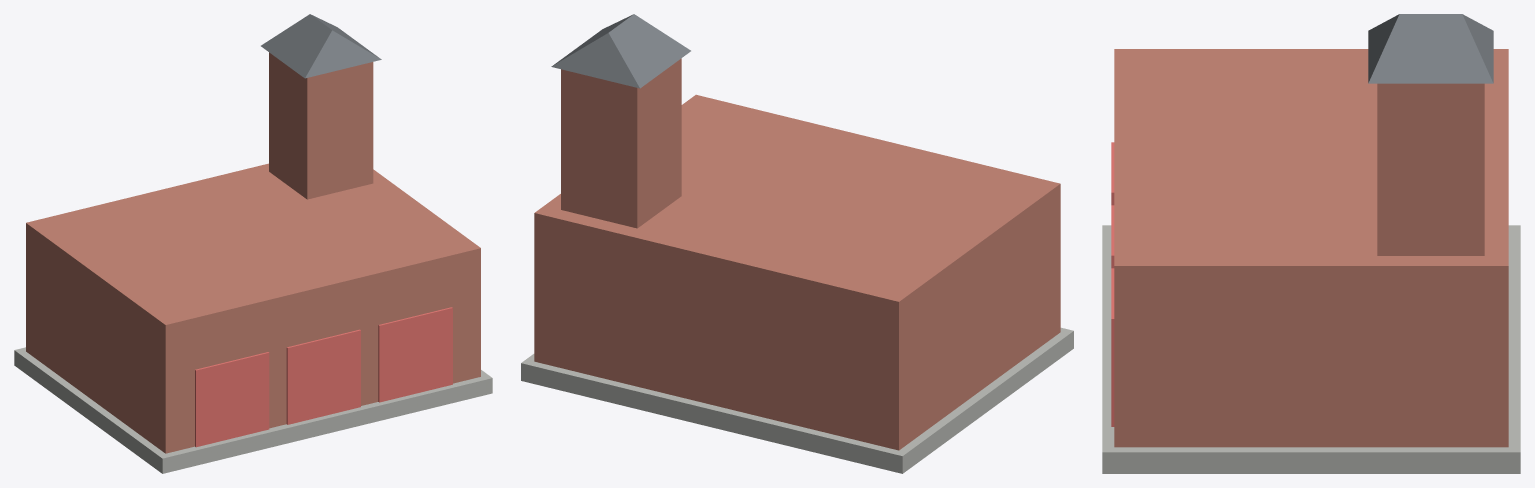
File: fire_station_engine_bays.glb
3 views of the same model, side by side, from view 1: azimuth 30°, elevation 25°; view 2: azimuth 150°, elevation 25°; view 3: azimuth 270°, elevation 25° (orthographic). The views are drawn at different scales.
Parts seen in each view (by area): view 1: fire_station_engine_bays; view 2: fire_station_engine_bays; view 3: fire_station_engine_bays.
Boxes of the visible parts, x1,y1,x2,y2 form: fire_station_engine_bays: [14, 14, 492, 473]; fire_station_engine_bays: [521, 14, 1073, 473]; fire_station_engine_bays: [1102, 14, 1520, 473].
Bounding box in the file's own units: 18 × 15.6 × 14.
